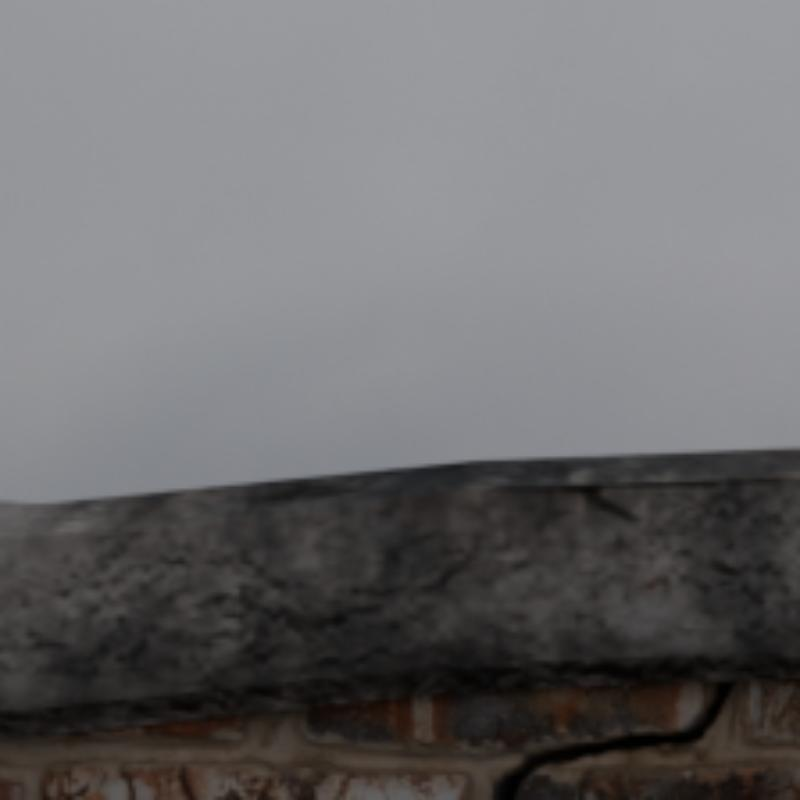pothole: (496, 679, 739, 796)
